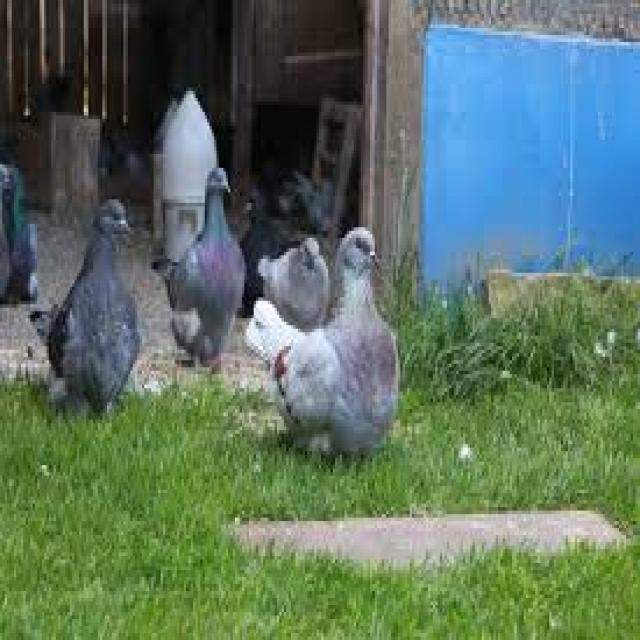pigeon: (242, 218, 410, 472)
